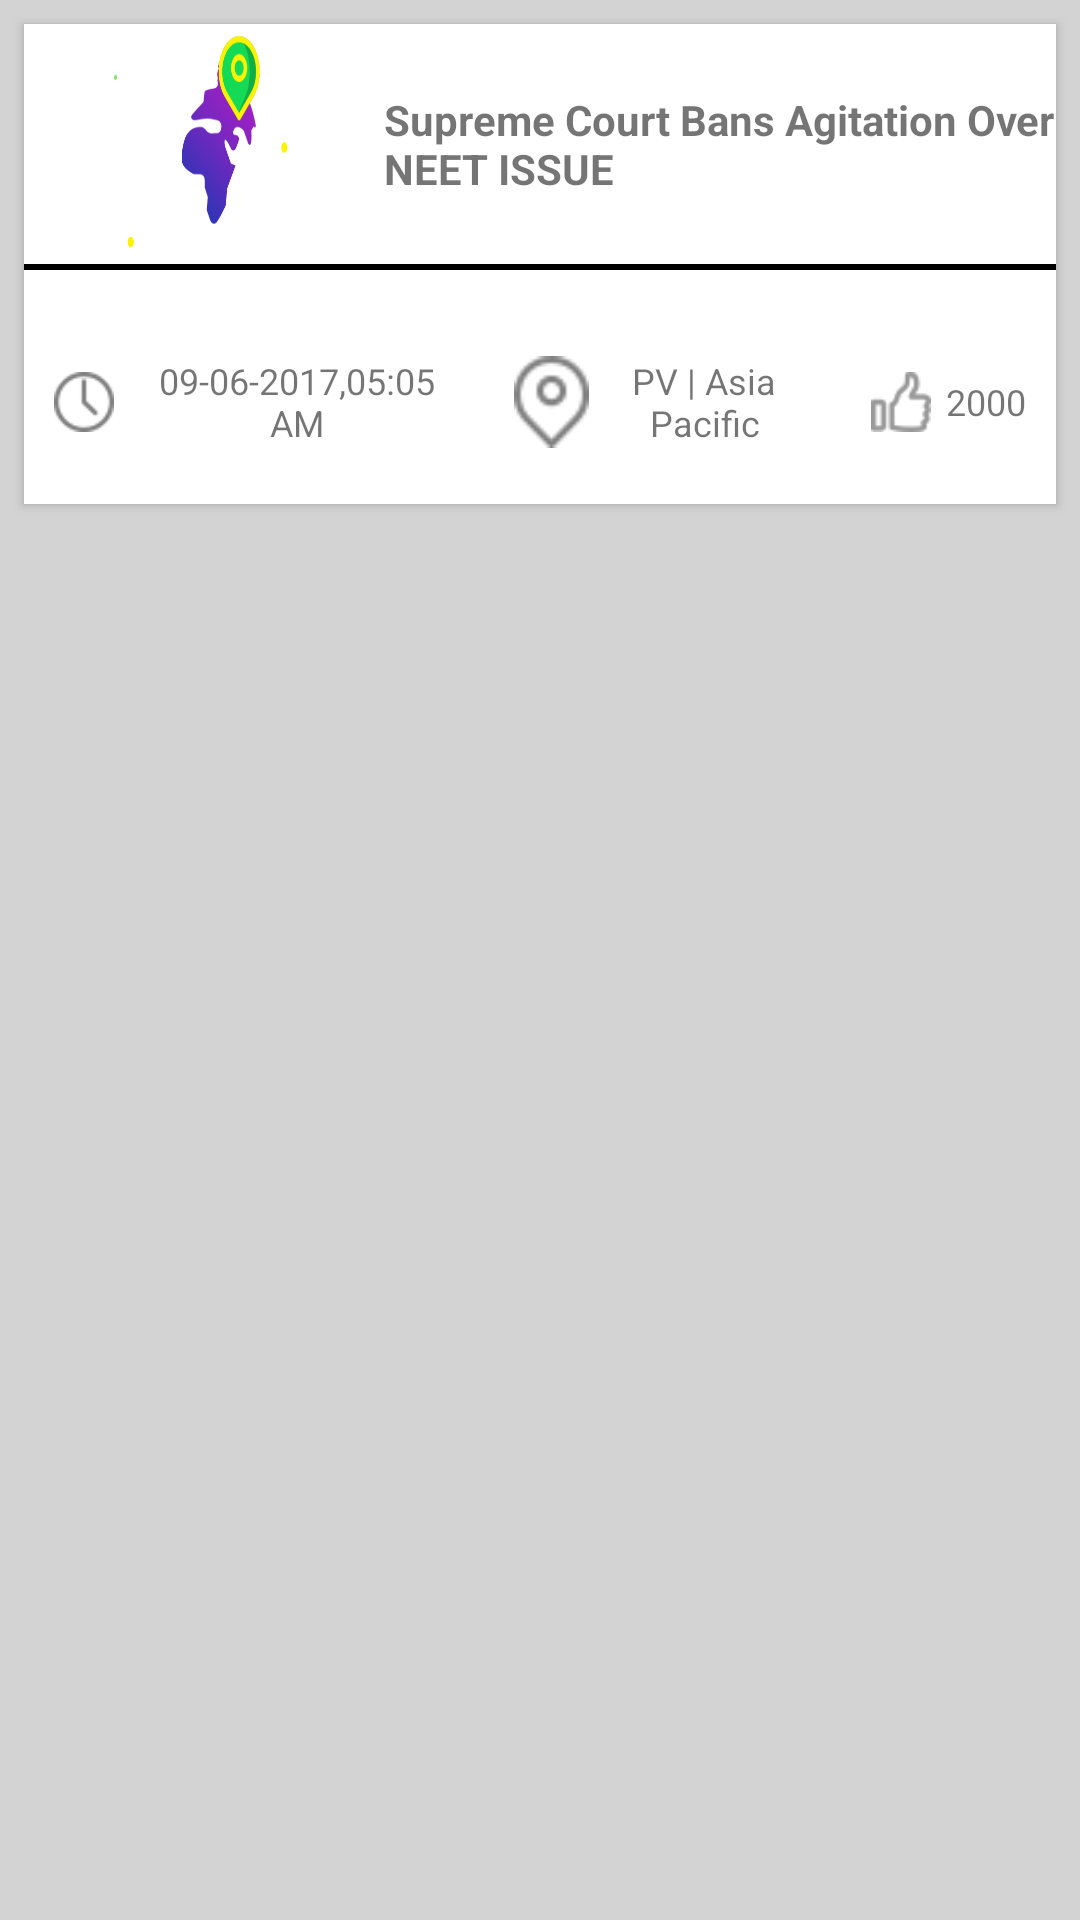

Screen size 1080*1920. Icon name, then its box in pixels as (x1, y1, x2, y2):
like: (871, 372, 931, 432)
location: (514, 356, 589, 448)
time: (54, 372, 114, 432)
